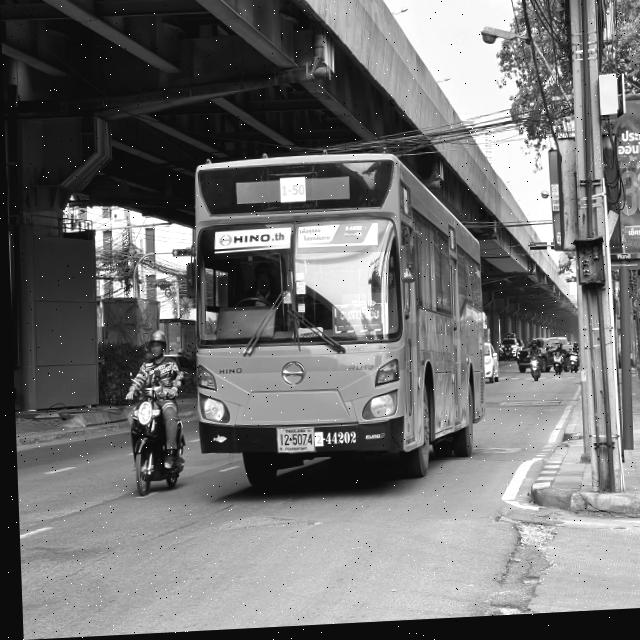BMTA-bus: (186, 151, 488, 498)
Bus-Line-Number: (276, 178, 308, 209)
Destination-Sign-Normal: (328, 306, 386, 342)
